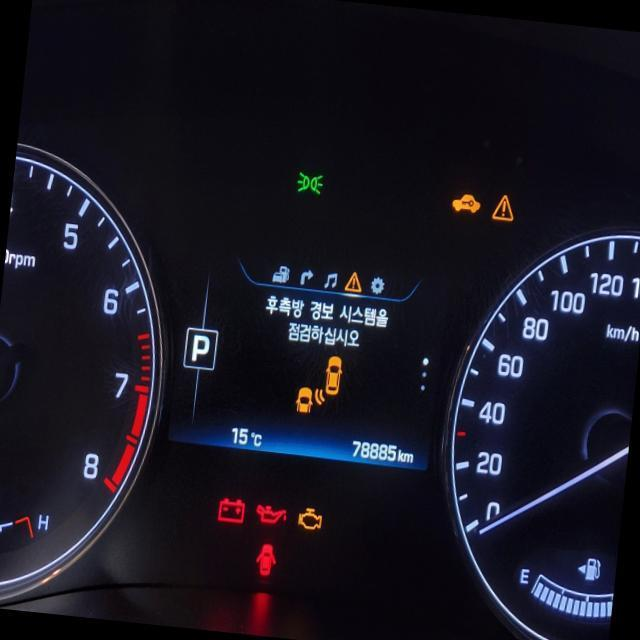Central Warning lamp: (490, 191, 515, 221), (342, 268, 363, 292)
Doors: (254, 542, 276, 576)
SideLamp: (294, 168, 323, 196)
